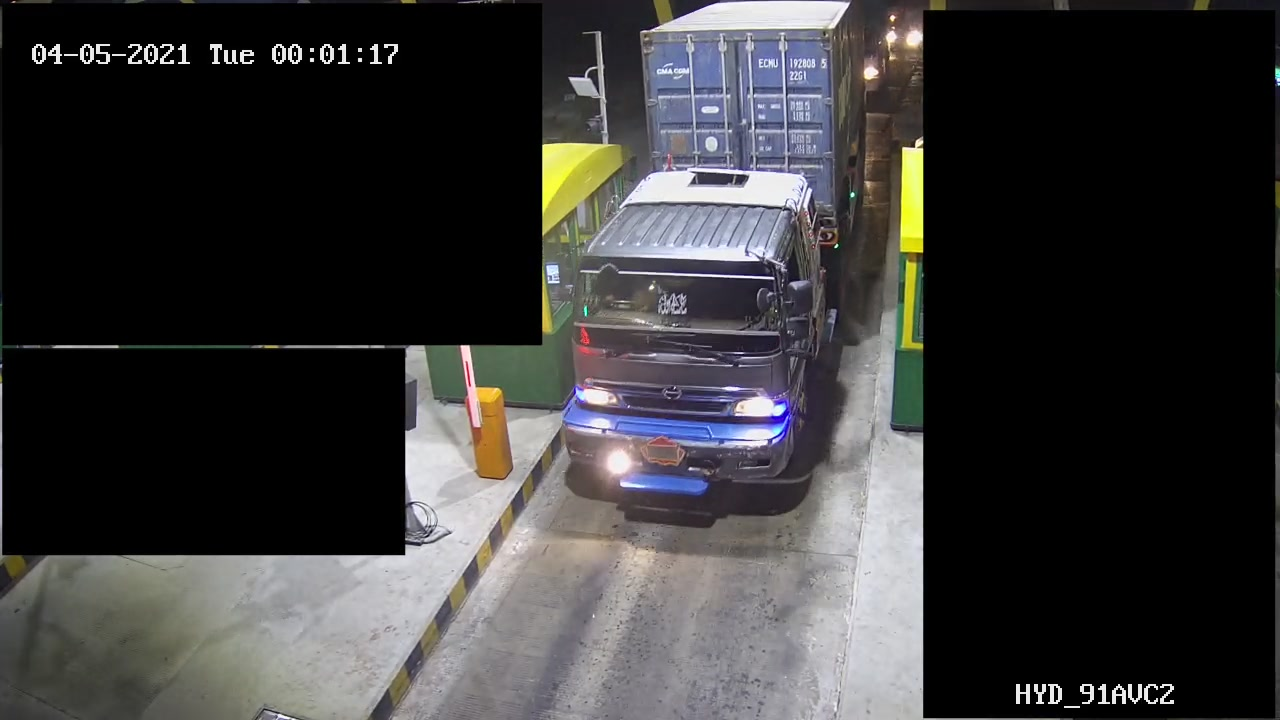F6: (549, 1, 868, 514)
